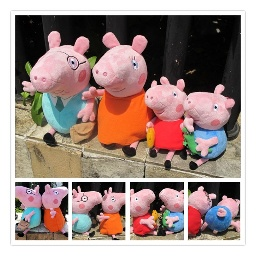Peppa: (144, 76, 186, 170), (188, 186, 216, 238), (130, 187, 158, 237), (41, 184, 68, 233)
